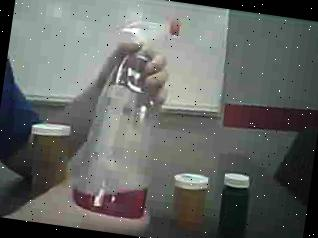Bottle A: (20, 116, 74, 194)
Bottle B: (169, 162, 214, 234)
Bottle C: (214, 165, 256, 238)
hazard: (84, 10, 182, 218)
